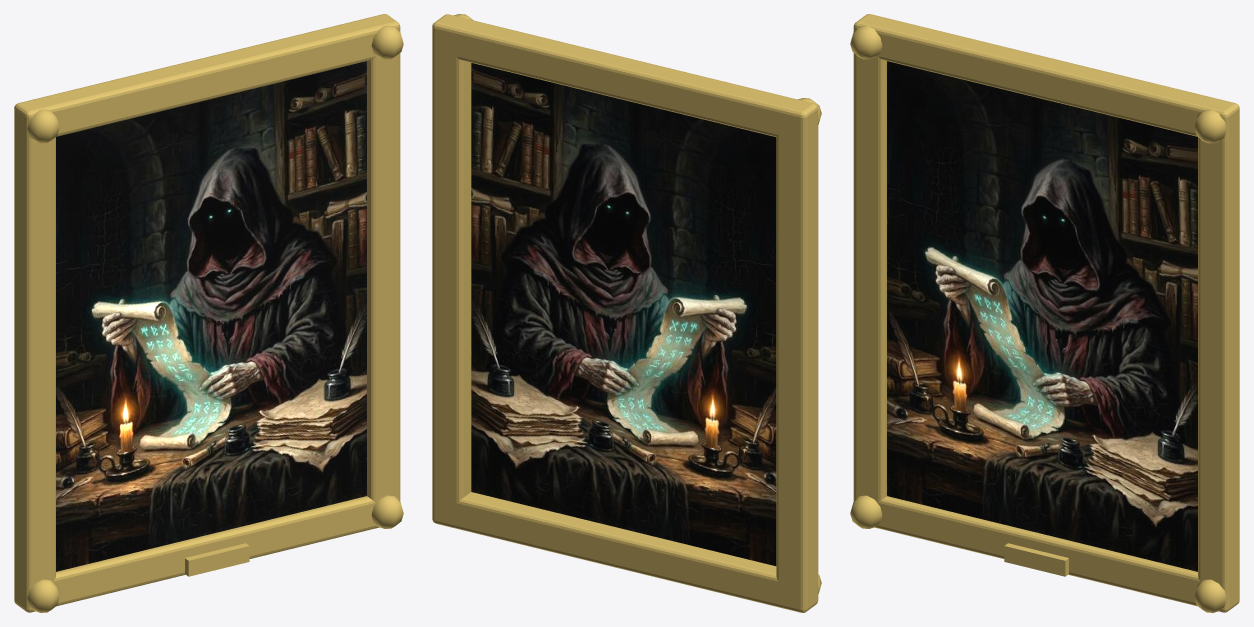
File: art_hooded_scholar.glb
3 views of the same model, side by side, from view 1: azimuth 30°, elevation 25°; view 2: azimuth 150°, elevation 25°; view 3: azimuth 330°, elevation 25° (orthographic).
Parts seen in each view (by area): view 1: GD_art_hooded_scholar__m0, GD_art_hooded_scholar__m1; view 2: GD_art_hooded_scholar__m0, GD_art_hooded_scholar__m1; view 3: GD_art_hooded_scholar__m0, GD_art_hooded_scholar__m1.
Boxes of the visible parts, <box> form: GD_art_hooded_scholar__m0: <box>56,61,366,571</box>; GD_art_hooded_scholar__m1: <box>14,14,403,612</box>; GD_art_hooded_scholar__m0: <box>471,63,776,566</box>; GD_art_hooded_scholar__m1: <box>432,14,821,612</box>; GD_art_hooded_scholar__m0: <box>887,61,1197,571</box>; GD_art_hooded_scholar__m1: <box>850,14,1239,612</box>.
Size of the model in its own units: 0.86 by 1.1 by 0.095.
Materials: 2 (1 with a texture image).
